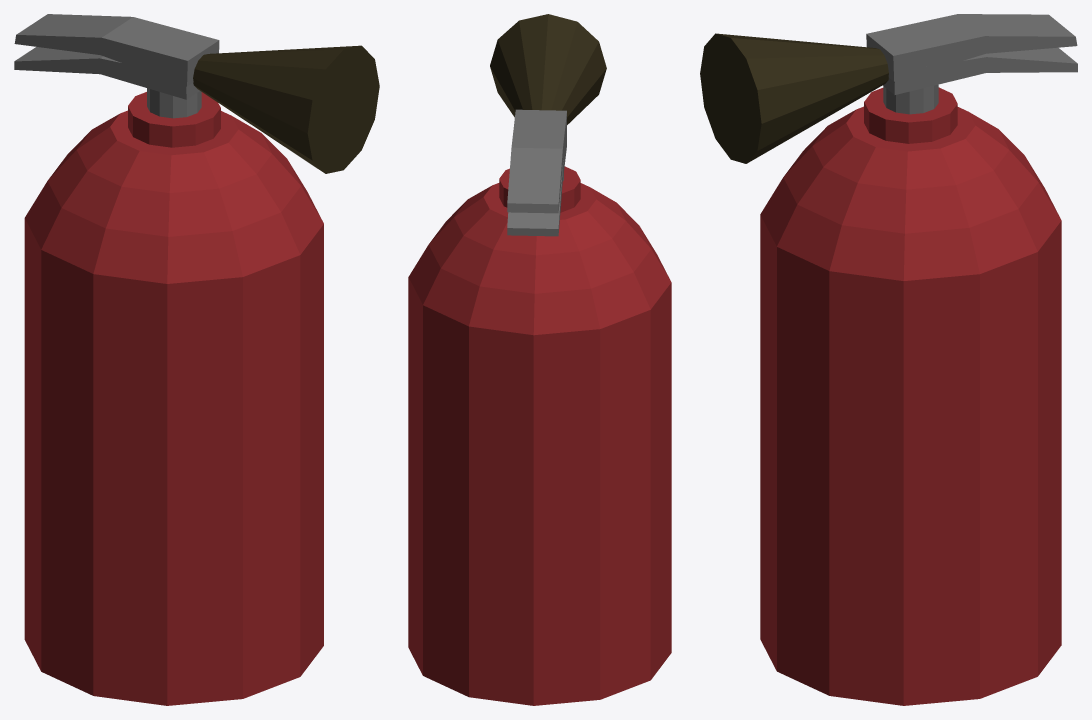
The model's file is SM_FireExtinguisher.fbx.
3 views of the same model, side by side, from view 1: azimuth 30°, elevation 25°; view 2: azimuth 150°, elevation 25°; view 3: azimuth 270°, elevation 25° (orthographic). The views are drawn at different scales.
Parts seen in each view (by area): view 1: fire extinguisher; view 2: fire extinguisher; view 3: fire extinguisher.
Part boxes in pixels (box(x1,y1,x2,y2)): fire extinguisher: box(14, 14, 379, 705); fire extinguisher: box(408, 14, 671, 705); fire extinguisher: box(700, 14, 1077, 705).
Bounding box in the file's own units: 29.04 × 67.99 × 36.18.
